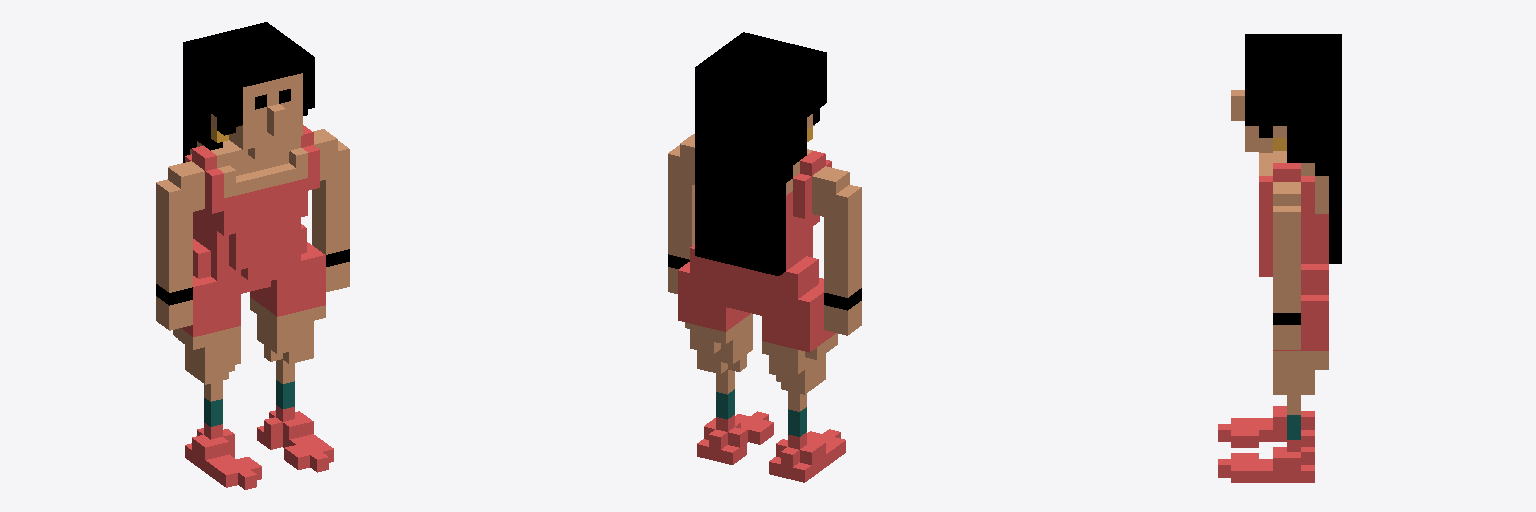
3 views of the same model, side by side, from view 1: azimuth 30°, elevation 25°; view 2: azimuth 150°, elevation 25°; view 3: azimuth 270°, elevation 25° (orthographic).
Parts seen in each view (by area): view 1: object 1; view 2: object 1; view 3: object 1.
Part boxes in pixels (x1,y1,x2,y2): object 1: (156, 22, 349, 489); object 1: (668, 32, 861, 482); object 1: (1218, 34, 1341, 482).
Size of the model in its own units: 1.5 by 3.2 by 0.9.
1 materials, 1 textured.